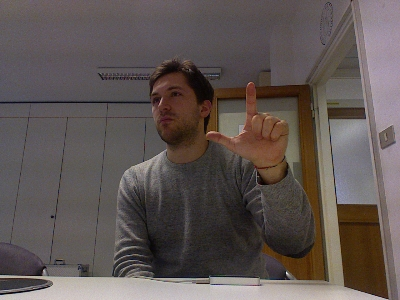枪: (205, 81, 289, 165)
